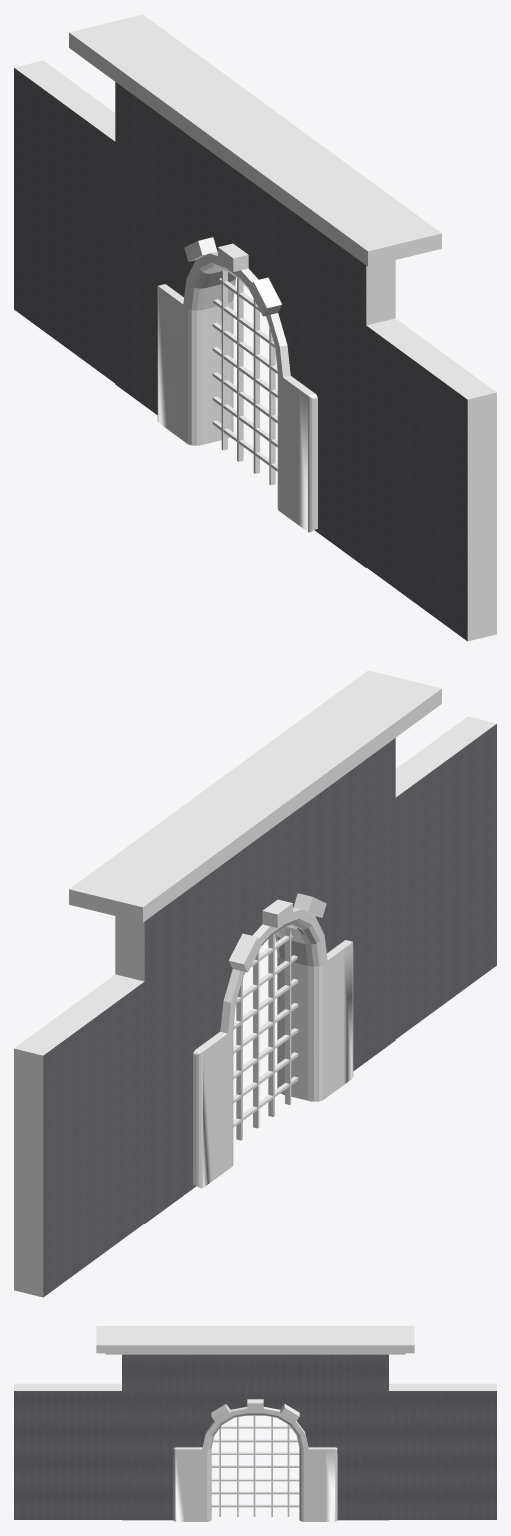
Rendered from CastleGate.fbx.
The picture shows the model from 3 angles, top to bottom: view 1: azimuth 30°, elevation 25°; view 2: azimuth 150°, elevation 25°; view 3: azimuth 270°, elevation 25°; orthographic projection. The views are drawn at different scales.
Parts seen in each view (by area): view 1: CastleGate; view 2: CastleGate; view 3: CastleGate.
Boxes of the visible parts, x1,y1,x2,y2 form: CastleGate: (14, 14, 496, 641); CastleGate: (14, 670, 496, 1297); CastleGate: (14, 1326, 496, 1521).
Size of the model in its own units: 747 by 3283 by 7943.
Materials: 3 (1 with a texture image).
